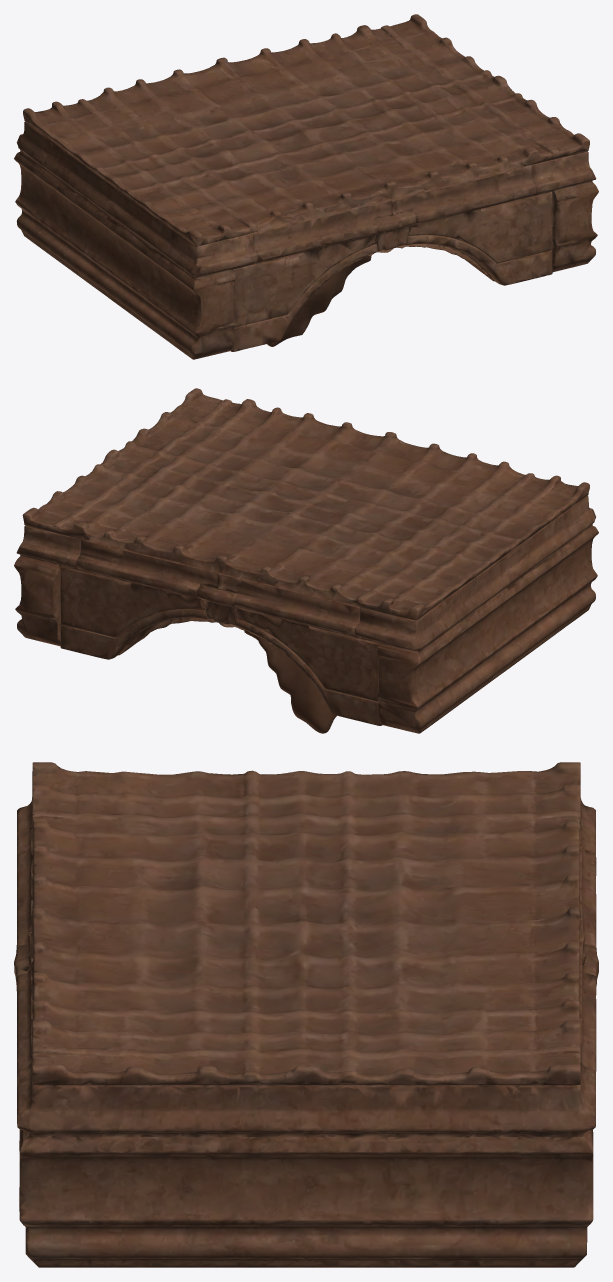
File: sepia-cutout-lod1.glb
3 views of the same model, one above another, from view 1: azimuth 30°, elevation 25°; view 2: azimuth 150°, elevation 25°; view 3: azimuth 270°, elevation 25° (orthographic). The views are drawn at different scales.
Parts seen in each view (by area): view 1: Mesh_0; view 2: Mesh_0; view 3: Mesh_0.
Part boxes in pixels (<box>): Mesh_0: <box>14,14,598,359</box>; Mesh_0: <box>14,388,598,733</box>; Mesh_0: <box>14,762,598,1267</box>.
Bounding box in the file's own units: 7373 × 3931 × 5795.
1 material, 1 textured.
